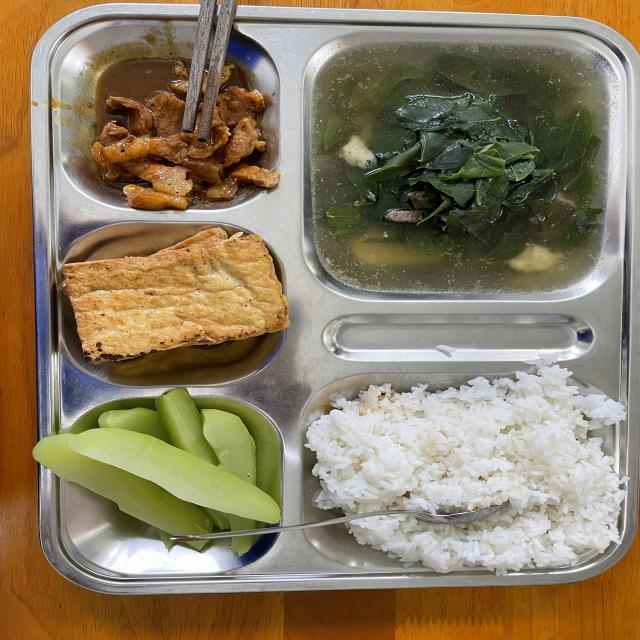dau_hu_sot_ca: (66, 242, 300, 366)
thit_kho: (71, 69, 263, 208)
